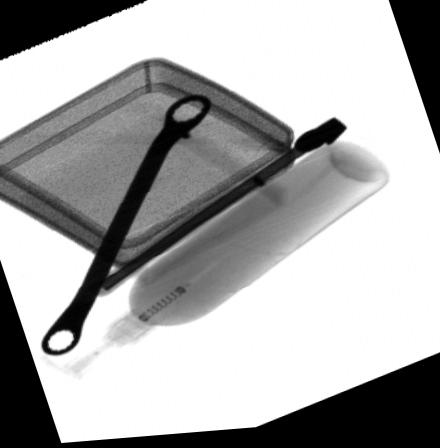Hammer: (91, 122, 350, 298)
Wrench: (40, 96, 210, 357)
